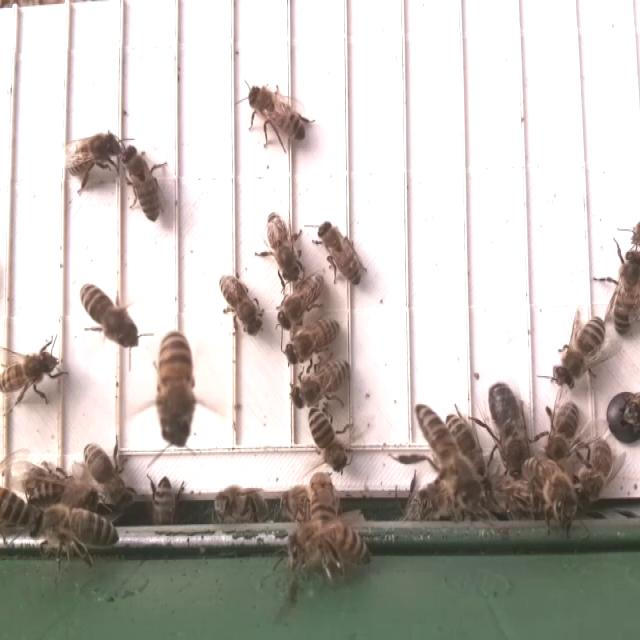Drone: (486, 378, 533, 481)
Worker: (412, 402, 469, 504), (156, 330, 196, 450), (77, 279, 139, 351), (553, 312, 607, 393), (34, 506, 121, 552), (246, 83, 309, 146), (121, 142, 163, 225), (316, 218, 366, 287), (287, 358, 352, 411), (217, 270, 263, 340), (276, 270, 326, 332), (306, 404, 350, 474), (82, 439, 129, 504), (283, 315, 341, 367), (0, 347, 59, 397), (66, 129, 123, 179), (610, 247, 640, 341), (265, 207, 301, 283), (544, 398, 583, 468)
